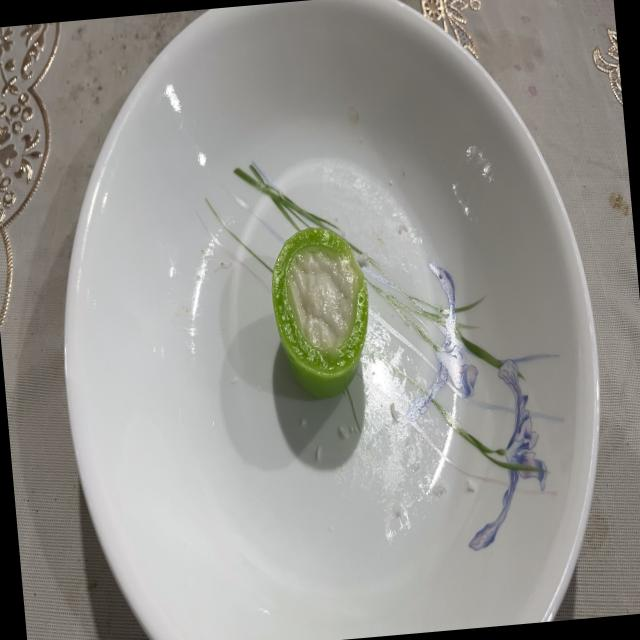nona-manis: (271, 226, 368, 398)
